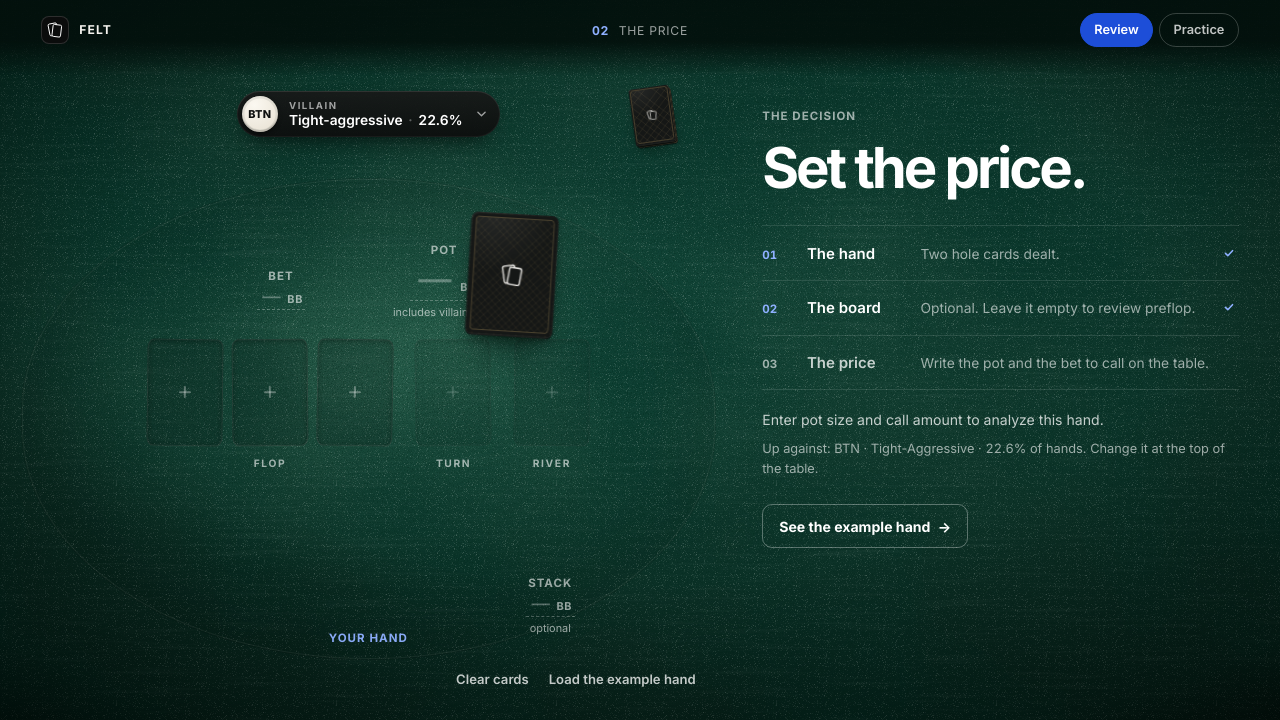
Test: card selection › keeps the tray open to deal the rest of the flop
The width and height of the screenshot is (1280, 720).
Click the button named "Select Flop card 1". click: (185, 393)
box: [146,339,224,446]
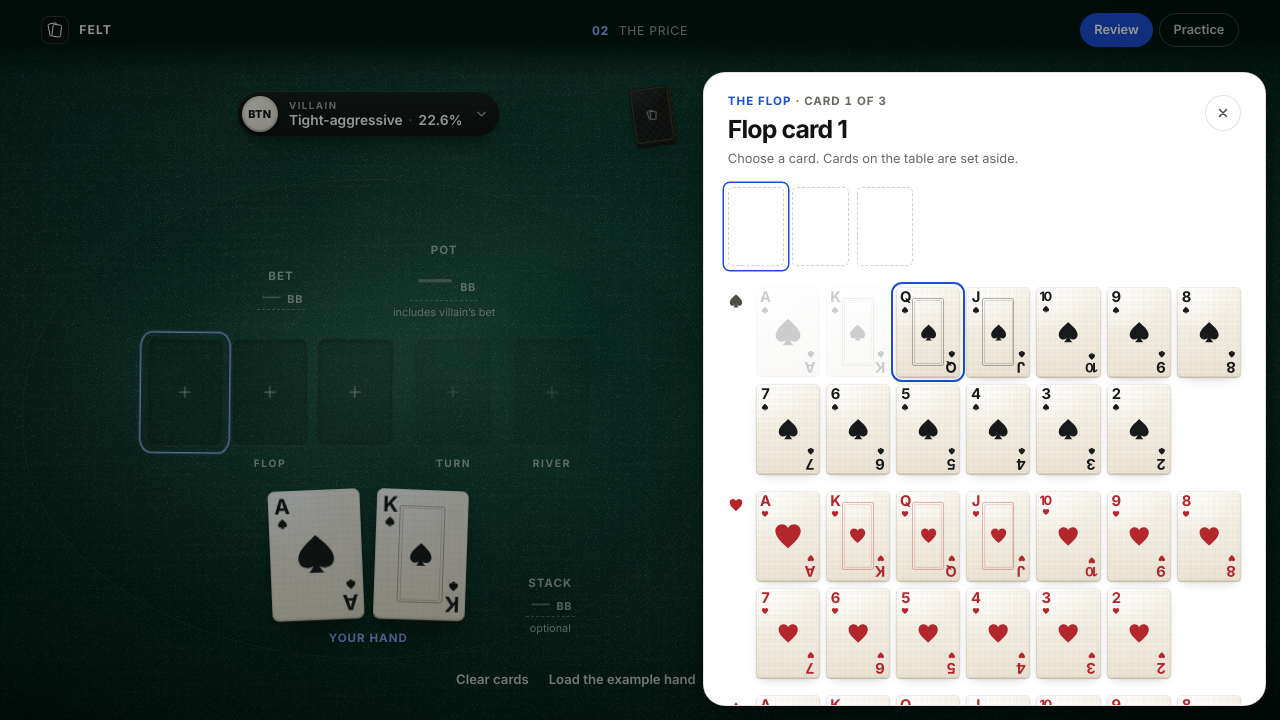
Click the button named "Q of Spades". click: (928, 332)
box: [896,287,960,377]
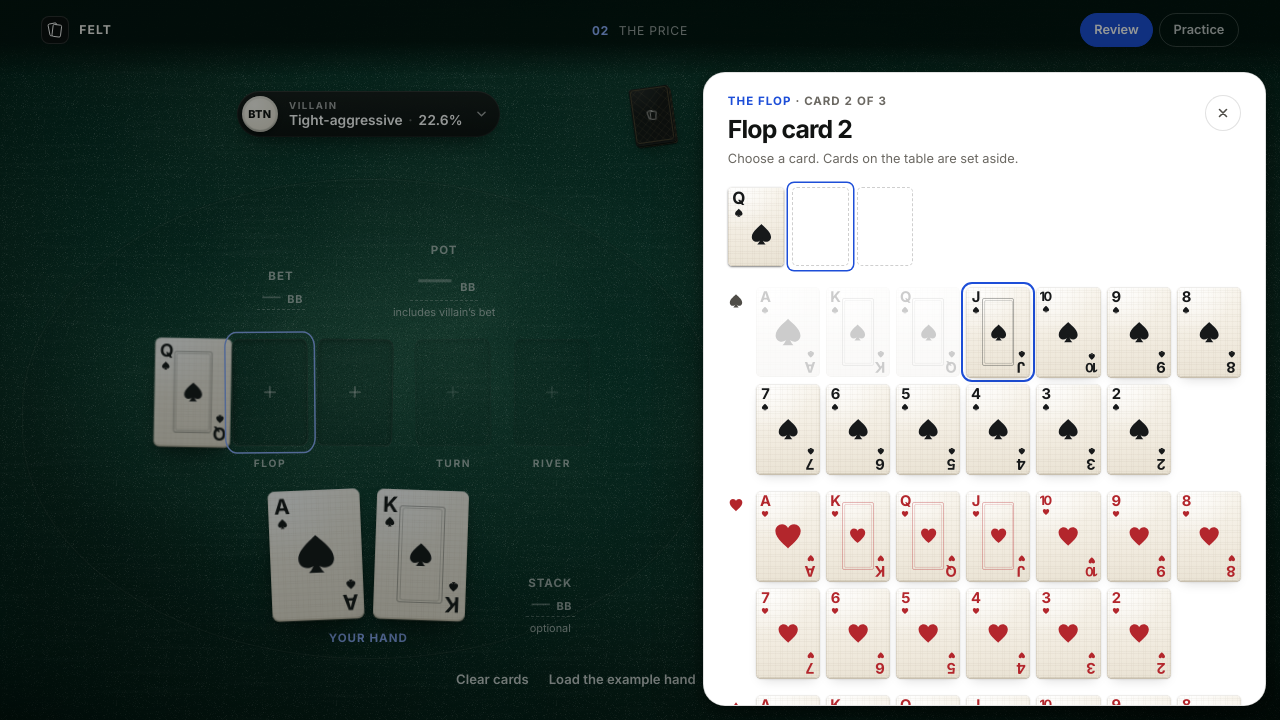
Now the heading "Flop card 2" is shown, box [728,114,852,144]
Click the button named "J of Spades". click: (998, 332)
box: [966,287,1030,377]
(page scrolled)
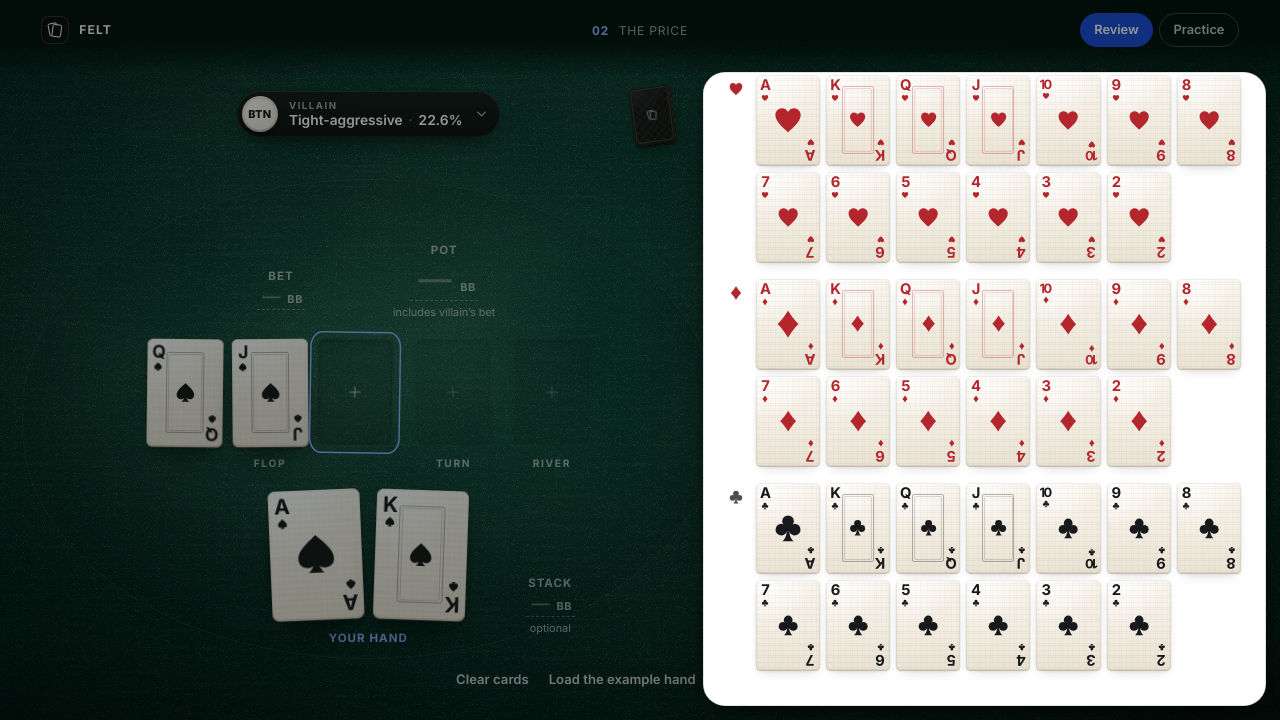
Click the button named "2 of Clubs". click: (1139, 625)
box: [1107,580,1171,670]
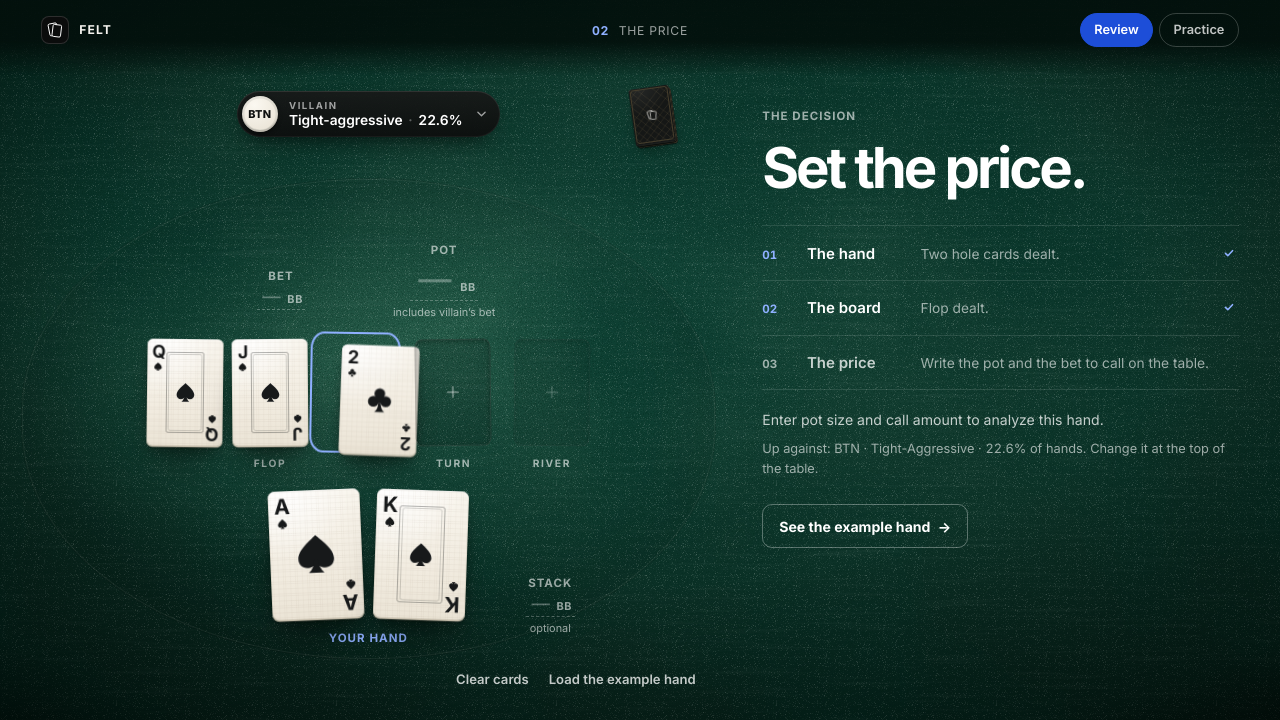
Now the dialog is gone
